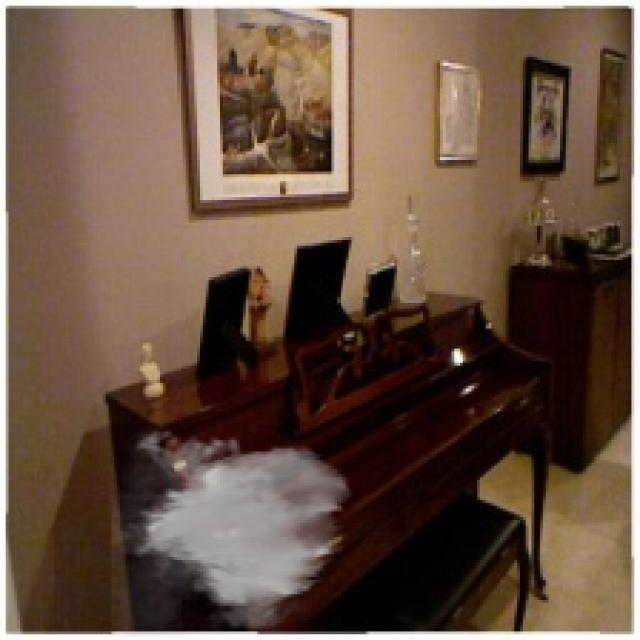Smoke: (112, 422, 354, 638)
